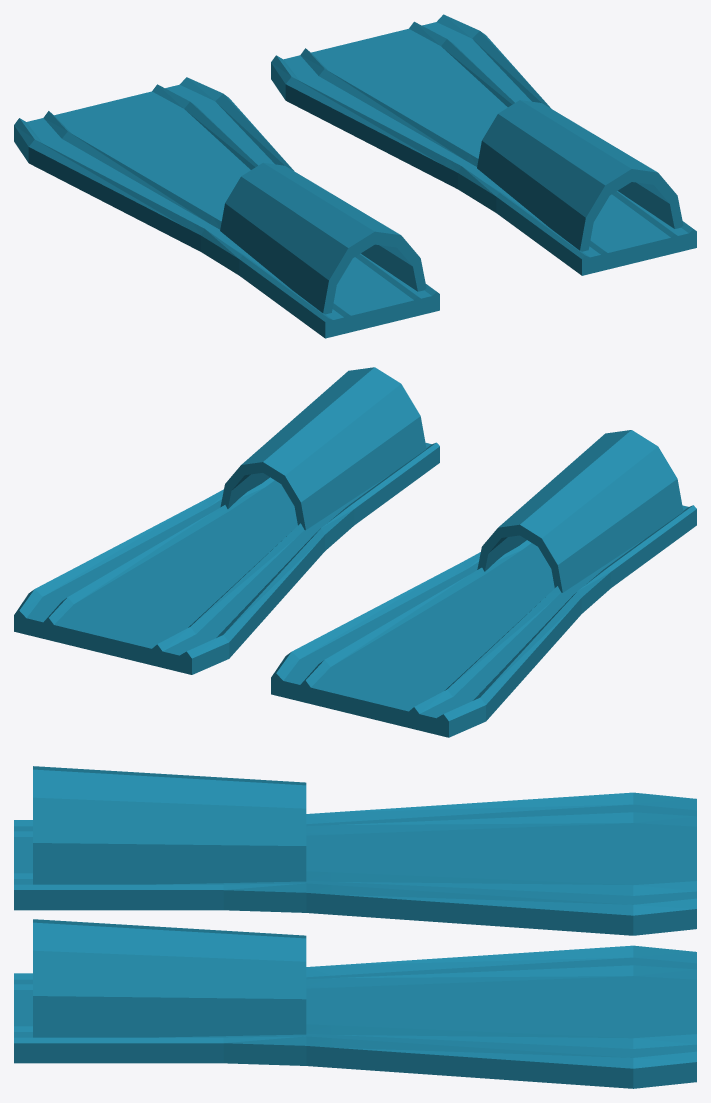
File: NEW_RECOVERY_073_LOD2.fbx
3 views of the same model, one above another, from view 1: azimuth 30°, elevation 25°; view 2: azimuth 150°, elevation 25°; view 3: azimuth 270°, elevation 25° (orthographic). The views are drawn at different scales.
Parts seen in each view (by area): view 1: FinRight, FinLeft; view 2: FinLeft, FinRight; view 3: FinLeft, FinRight.
Part boxes in pixels (x1,y1,x2,y2): FinRight: [271, 14, 696, 275]; FinLeft: [14, 77, 439, 338]; FinLeft: [271, 430, 696, 737]; FinRight: [14, 367, 439, 674]; FinLeft: [14, 766, 696, 935]; FinRight: [14, 919, 696, 1088].
Bounding box in the file's own units: 203 × 215 × 37.
